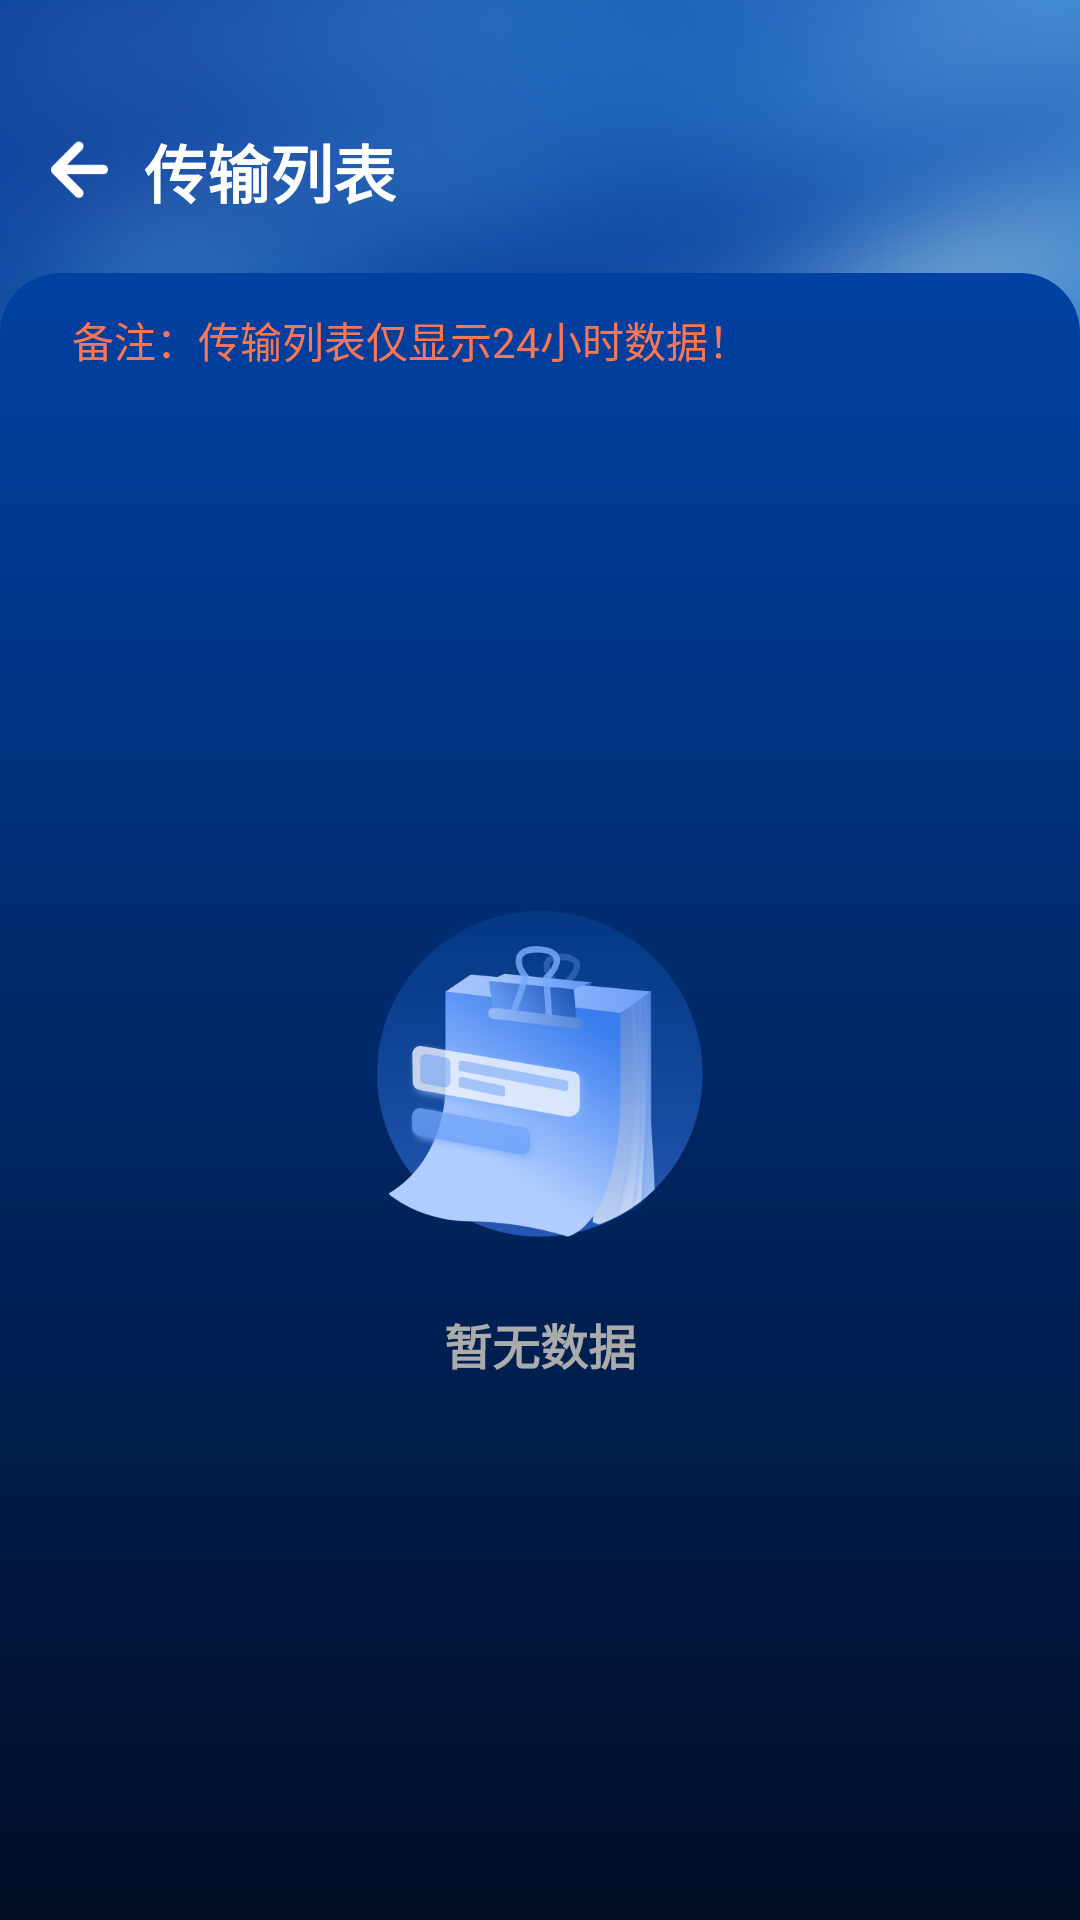

Icons on this 1080×1920 Android screen, each with the point to tap as [x,y]:
back: [79,169]
